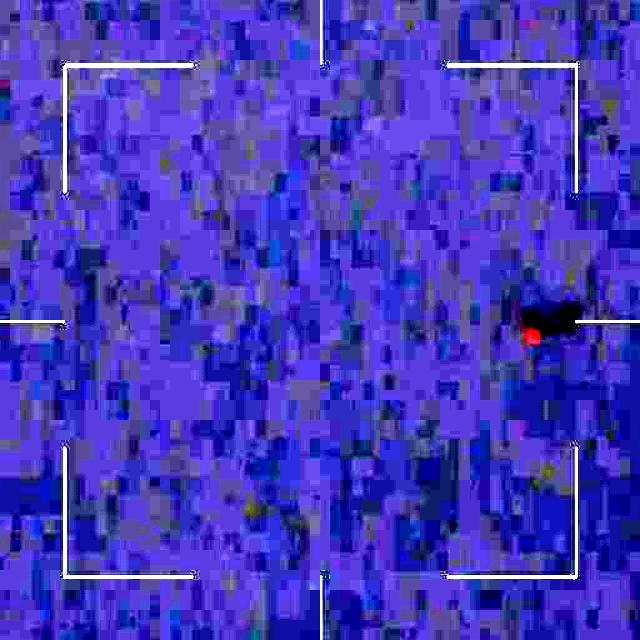bird: (521, 318, 550, 358)
